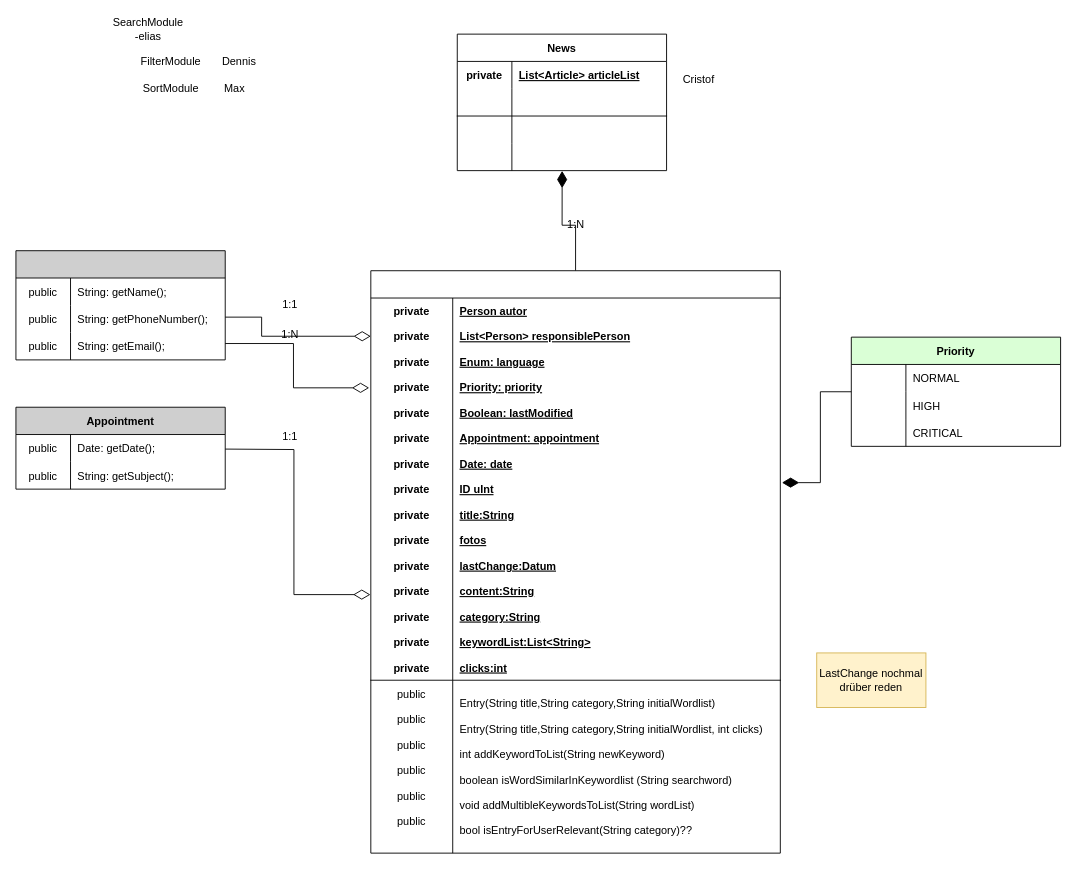
The diagram is 1077 pixels wide and 870 high, and some of its shapes have lost their labels. Here are the shapes that lost their labels. From the top down, the box of each, then its label:
(15, 250, 225, 360): Person
(370, 270, 780, 853): Article
